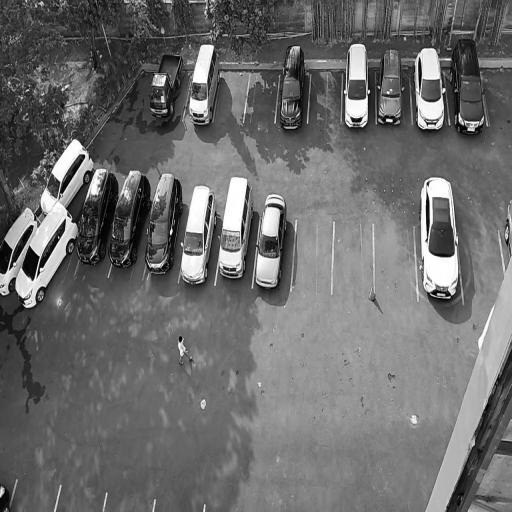Car: (9, 197, 82, 314), (415, 174, 462, 302), (105, 160, 157, 273), (140, 164, 189, 279), (214, 168, 260, 284), (73, 161, 122, 268), (38, 131, 98, 218), (177, 178, 221, 289), (446, 33, 490, 139), (252, 188, 291, 291), (0, 203, 42, 297), (410, 41, 448, 132), (187, 41, 224, 127), (149, 41, 187, 122), (277, 42, 309, 132), (342, 40, 371, 130), (376, 45, 406, 128)
Space Available: (457, 228, 504, 304), (375, 223, 417, 300), (292, 219, 333, 294), (333, 221, 373, 296), (243, 73, 279, 123), (214, 73, 249, 122), (482, 68, 512, 125), (308, 73, 342, 123), (8, 479, 60, 511), (55, 484, 107, 512), (104, 492, 155, 512)
